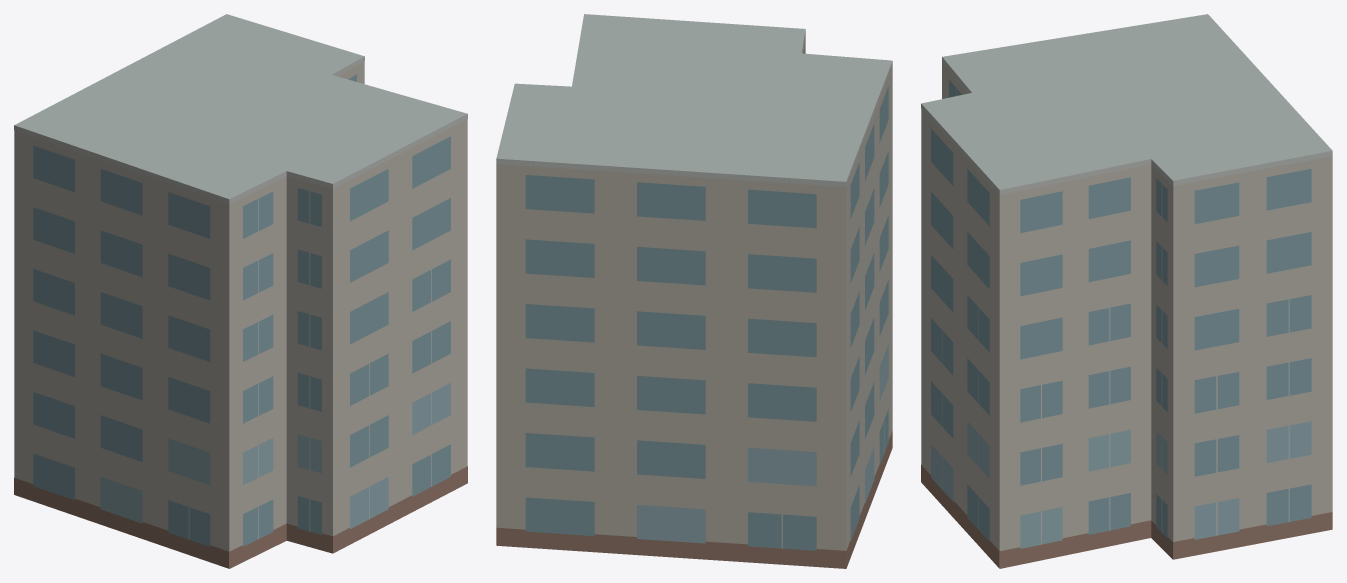
Rendered from survey-upis-32863576.glb.
3 views of the same model, side by side, from view 1: azimuth 30°, elevation 25°; view 2: azimuth 150°, elevation 25°; view 3: azimuth 270°, elevation 25° (orthographic). The views are drawn at different scales.
Parts seen in each view (by area): view 1: survey-upis-32863576.tmp; view 2: survey-upis-32863576.tmp; view 3: survey-upis-32863576.tmp.
Part boxes in pixels (bbox=[...]): survey-upis-32863576.tmp: bbox=[14, 14, 467, 568]; survey-upis-32863576.tmp: bbox=[496, 14, 892, 568]; survey-upis-32863576.tmp: bbox=[921, 14, 1332, 568].
Size of the model in its own units: 17.55 by 17.6 by 17.34.
